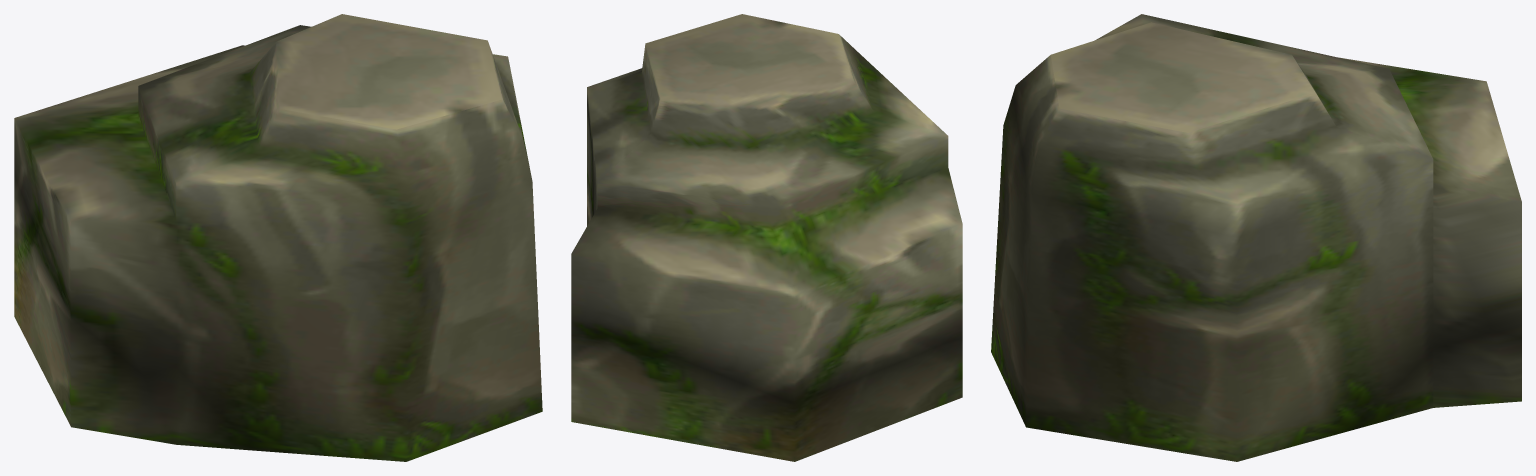
The model's file is RockFormation_4_5 (41).fbx.
3 renders of one model, left to right at view 1: azimuth 30°, elevation 25°; view 2: azimuth 150°, elevation 25°; view 3: azimuth 270°, elevation 25°, orthographic. The views are drawn at different scales.
Visible parts, largest first — view 1: RockFormation_4_5 (41); view 2: RockFormation_4_5 (41); view 3: RockFormation_4_5 (41).
Part boxes in pixels (x1,y1,x2,y2): RockFormation_4_5 (41): (14, 14, 542, 461); RockFormation_4_5 (41): (571, 14, 962, 461); RockFormation_4_5 (41): (991, 14, 1521, 461).
Bounding box in the file's own units: 55.77 × 37.04 × 58.03.
